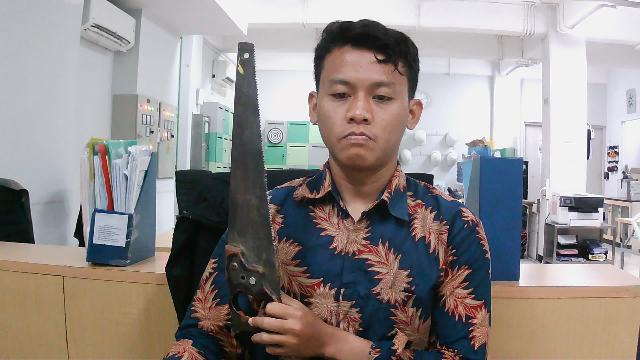gergaji_kayu: (211, 36, 295, 340)
